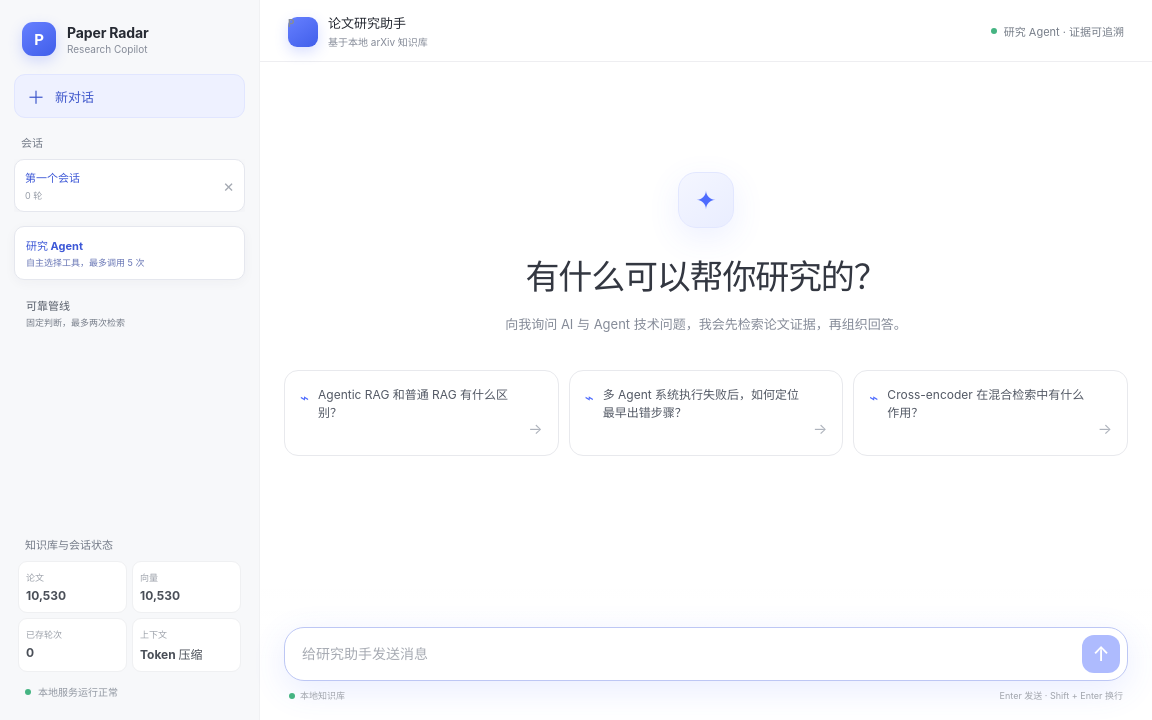
App › allows switching back to the reliable pipeline
Expected: the button named "发送" is shown, x1=1082 y1=635 x2=1120 y2=673
Click the button "可靠管线 固定判断，最多两次检索".
click(130, 313)  # box x1=14 y1=286 x2=245 y2=340
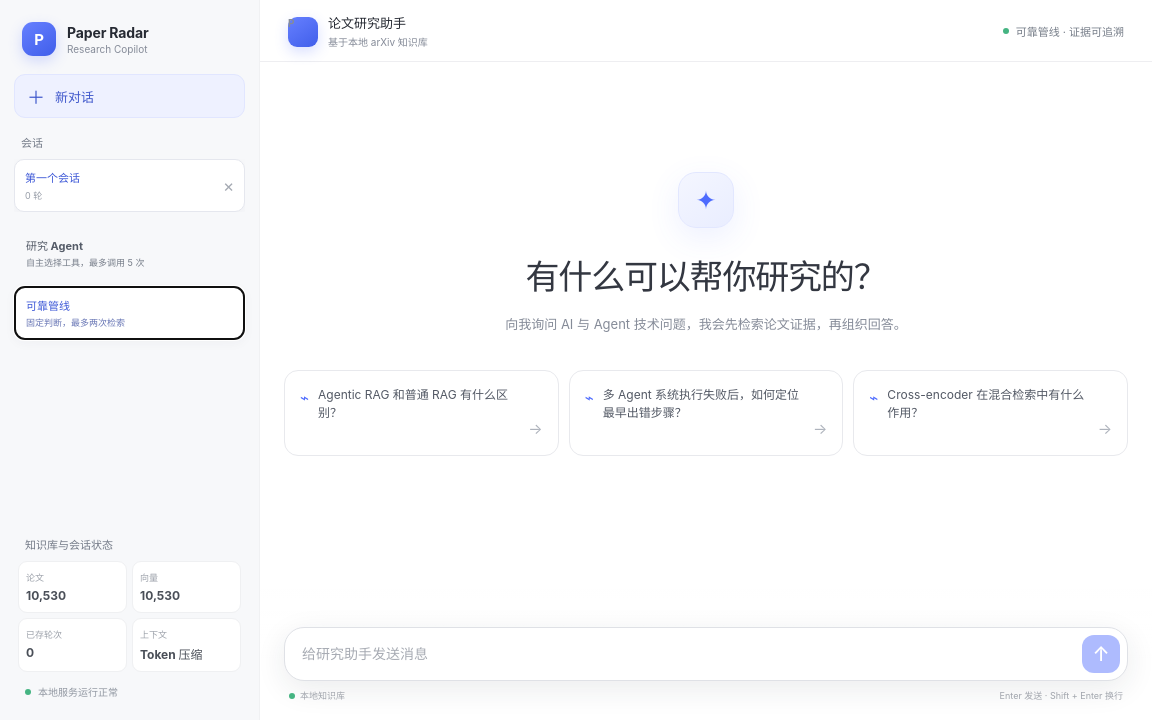
Type "使用固定流程" into the text box named "继续追问或开始一个新技术话题".
click(692, 654); type("使用固定流程")  # box x1=302 y1=635 x2=1082 y2=673
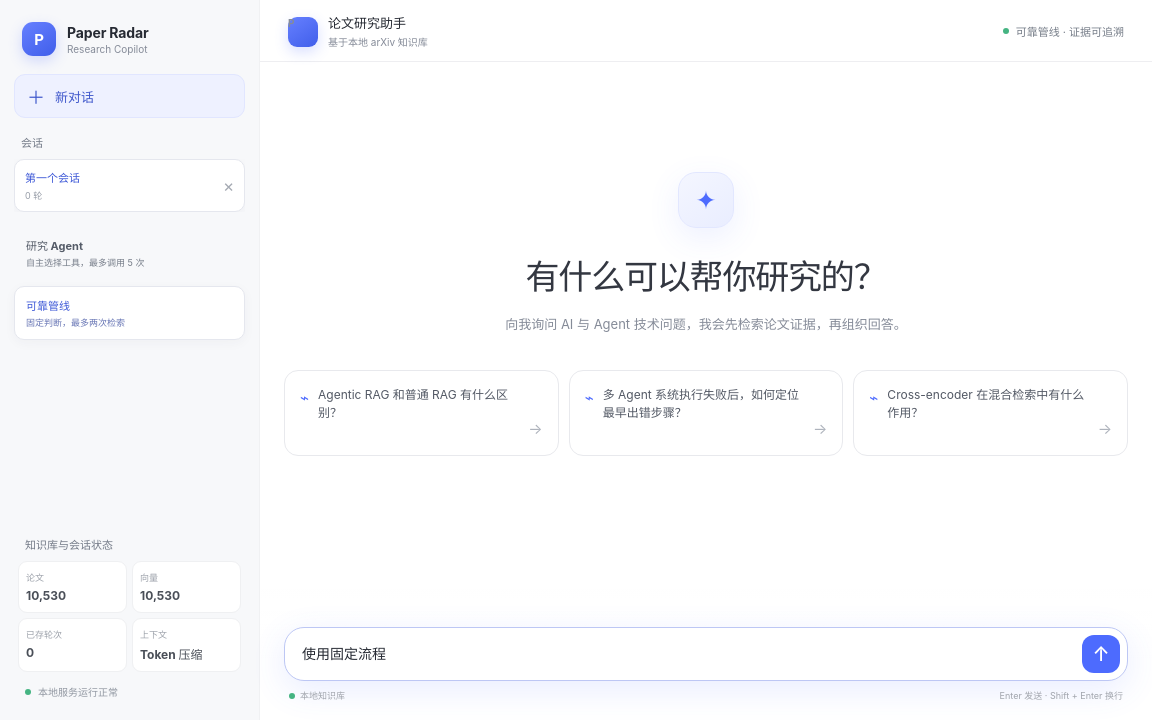
Click the button named "发送".
click(1101, 654)  # box x1=1082 y1=635 x2=1120 y2=673
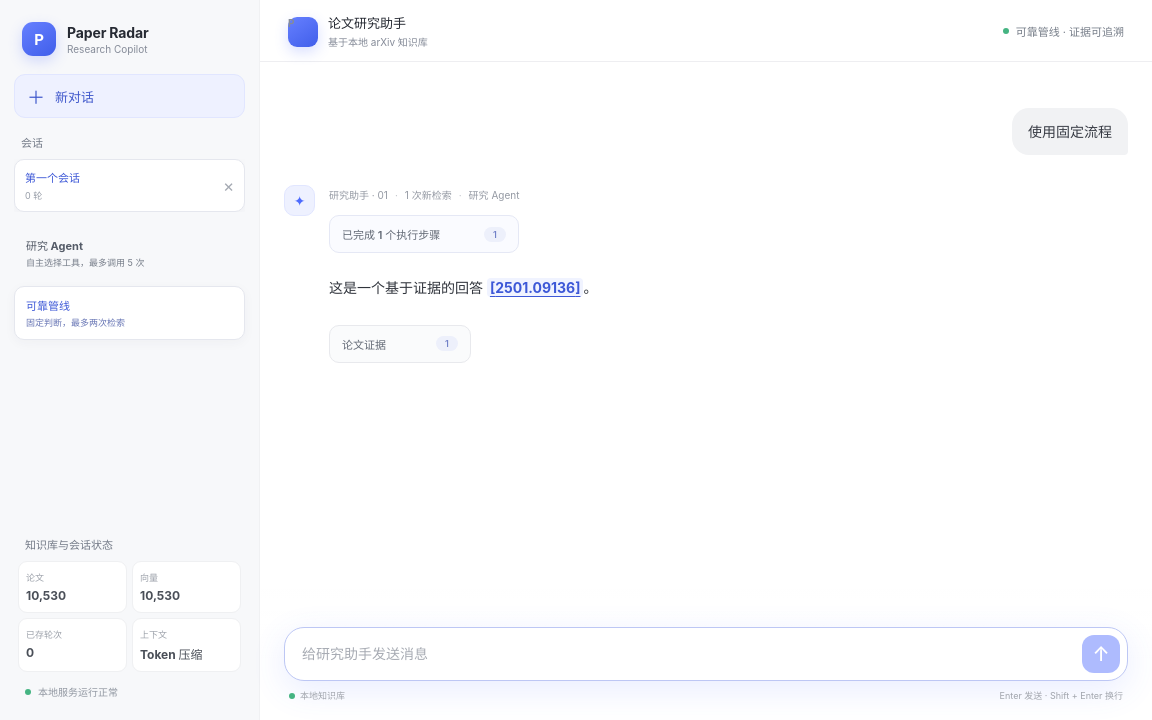
Expected: the text "这是一个基于证据的回答 [2501.09136] 。" is shown, x1=329 y1=278 x2=598 y2=297
